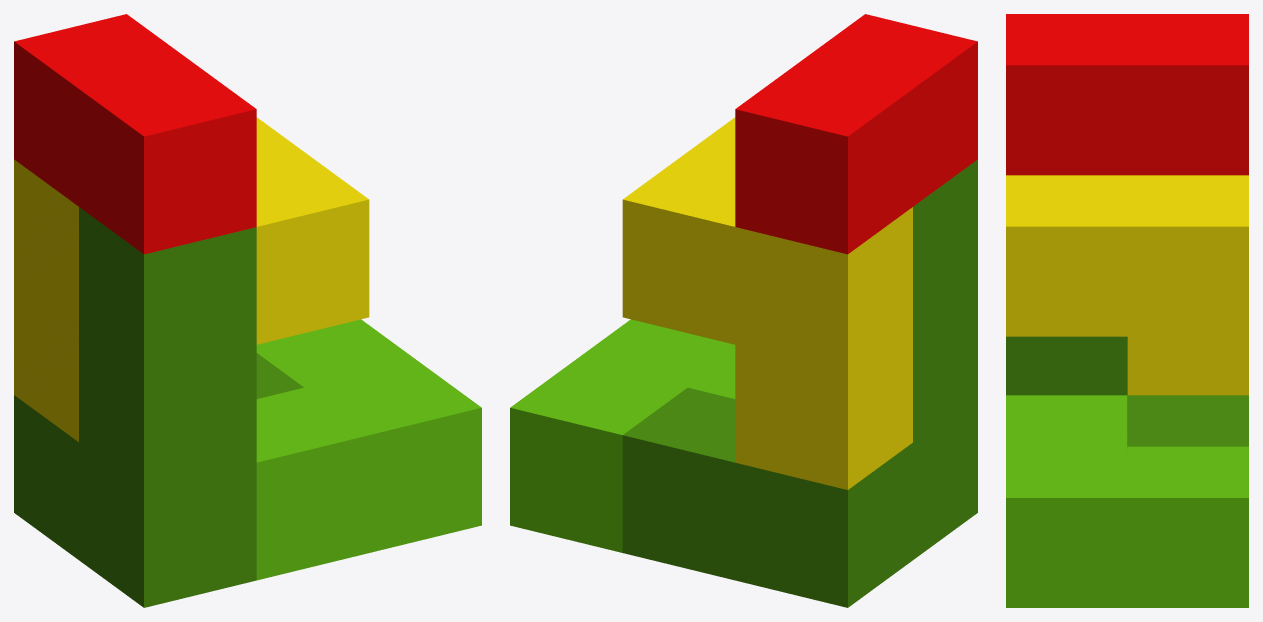
3 renders of one model, left to right at view 1: azimuth 30°, elevation 25°; view 2: azimuth 150°, elevation 25°; view 3: azimuth 270°, elevation 25°, orthographic. The views are drawn at different scales.
Parts seen in each view (by area): view 1: mergedBlocks(Clone); view 2: mergedBlocks(Clone); view 3: mergedBlocks(Clone).
Part boxes in pixels (bbox=[...]): mergedBlocks(Clone): bbox=[14, 14, 481, 607]; mergedBlocks(Clone): bbox=[510, 14, 977, 607]; mergedBlocks(Clone): bbox=[1006, 14, 1248, 607].
Bounding box in the file's own units: 3 × 4 × 2.
4 materials, 4 textured.
